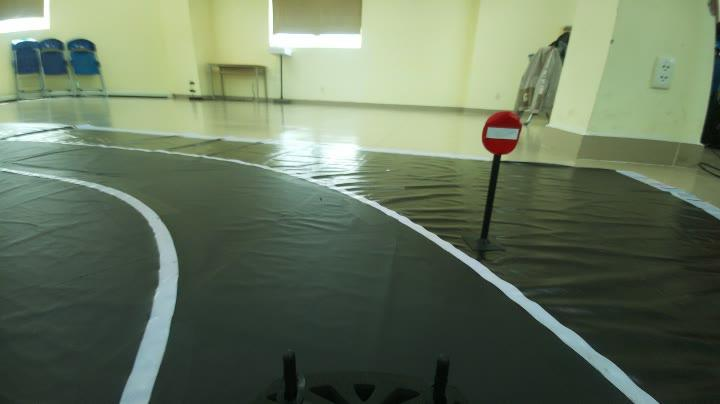no_entry: (478, 112, 528, 159)
